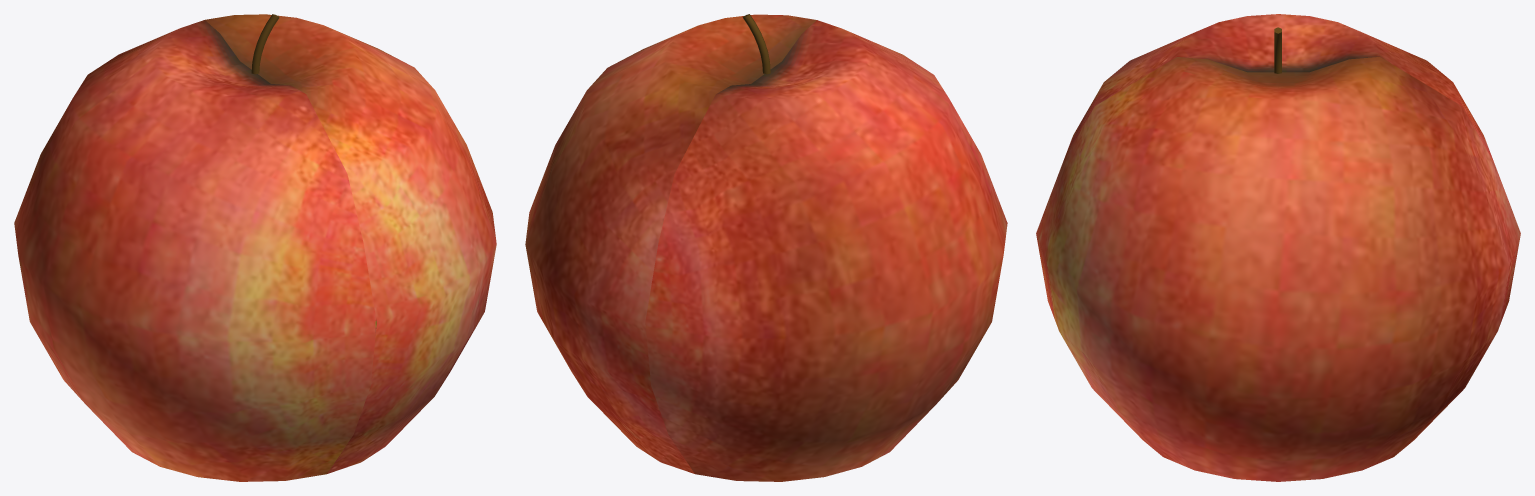
The model's file is apple fbx export.FBX.
3 views of the same model, side by side, from view 1: azimuth 30°, elevation 25°; view 2: azimuth 150°, elevation 25°; view 3: azimuth 270°, elevation 25° (orthographic).
Parts seen in each view (by area): view 1: apple; view 2: apple; view 3: apple.
Part boxes in pixels (<box>): apple: <box>14,14,496,481</box>; apple: <box>525,14,1007,481</box>; apple: <box>1036,14,1520,481</box>.
Size of the model in its own units: 11.35 by 10.74 by 11.35.
